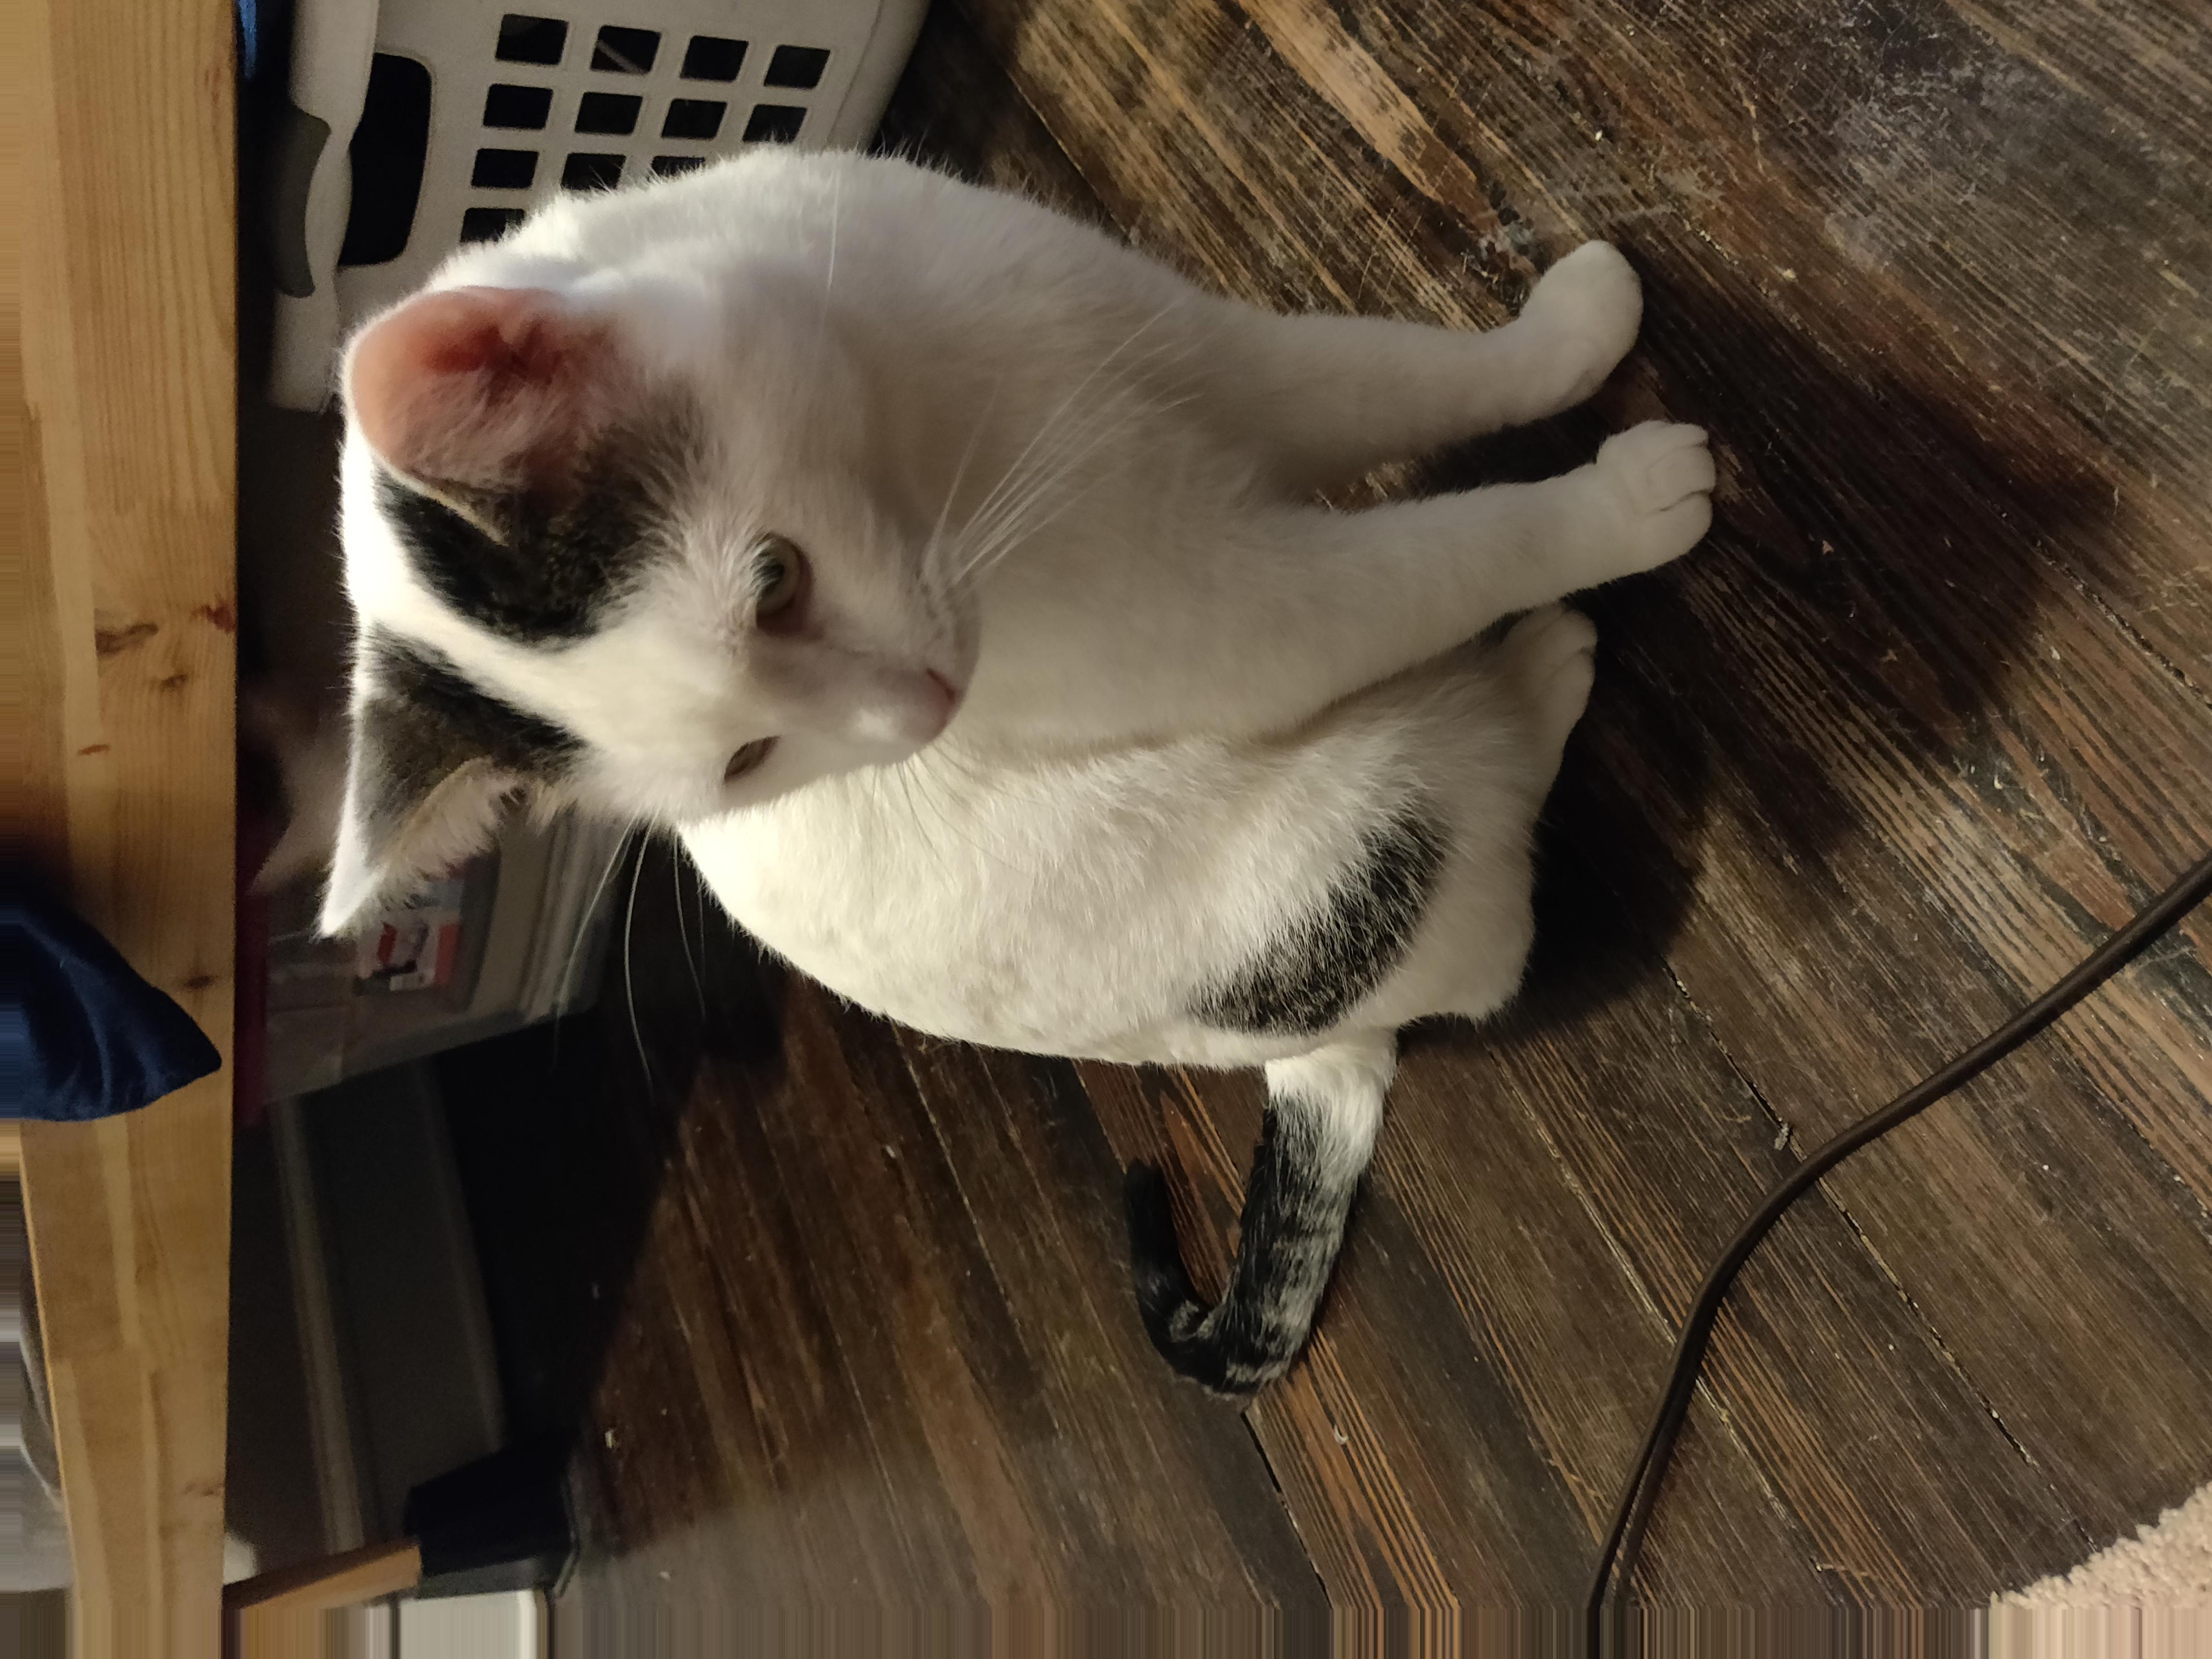cat: (322, 151, 1706, 1037)
